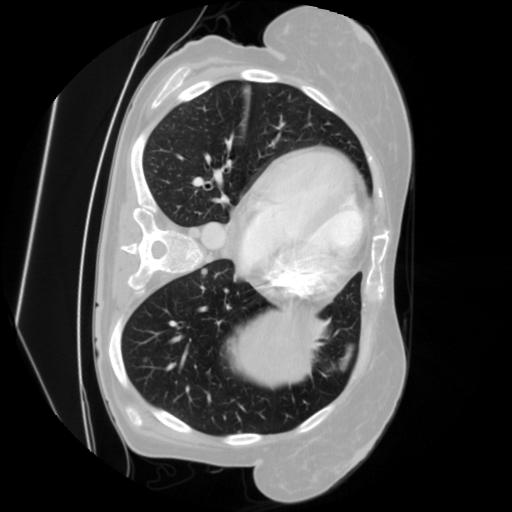nodule: (198, 266, 212, 280)
